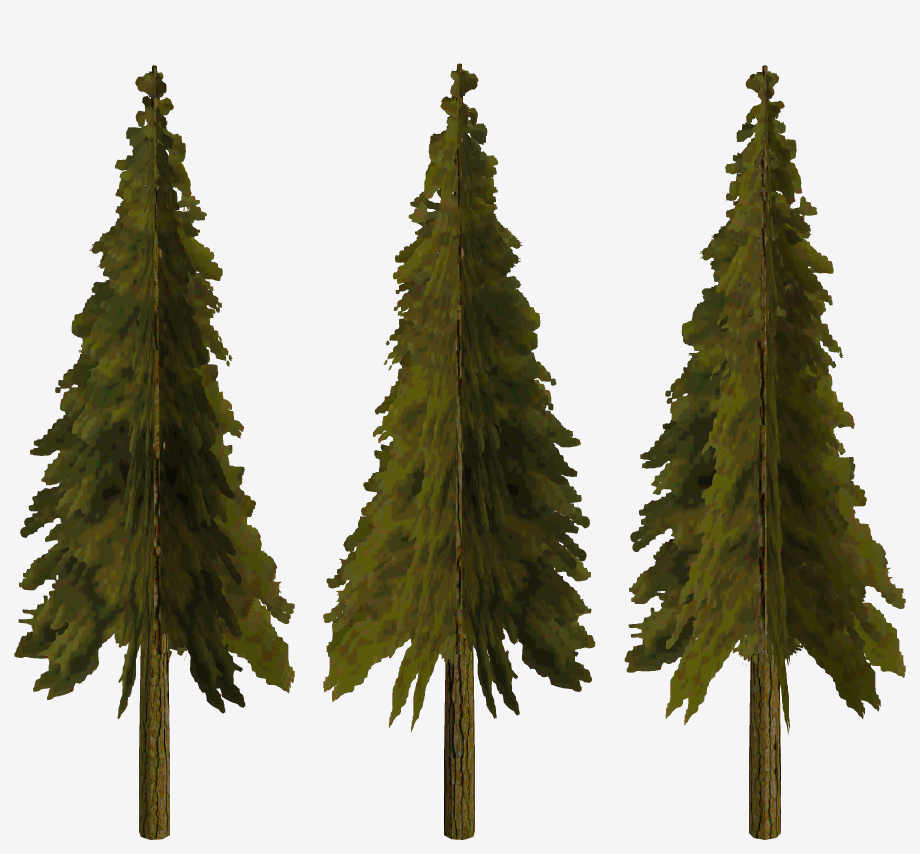
The model's file is Tree.fbx.
3 renders of one model, left to right at view 1: azimuth 30°, elevation 25°; view 2: azimuth 150°, elevation 25°; view 3: azimuth 270°, elevation 25°, orthographic.
Visible parts, largest first — view 1: Cube; view 2: Cube; view 3: Cube.
Part boxes in pixels (x1,y1,x2,y2): Cube: (14, 65, 294, 839); Cube: (323, 63, 595, 839); Cube: (624, 65, 905, 839).
Size of the model in its own units: 469 by 1409 by 469.
2 materials, 2 textured.
